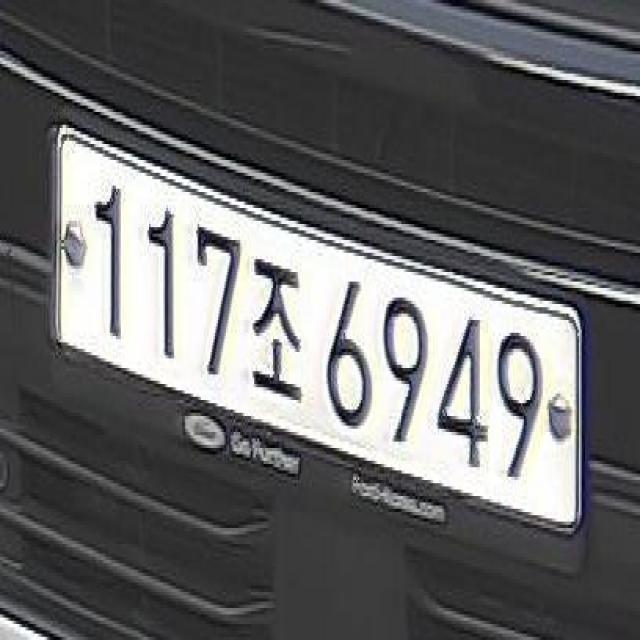illegal_plate: (51, 138, 590, 530)
